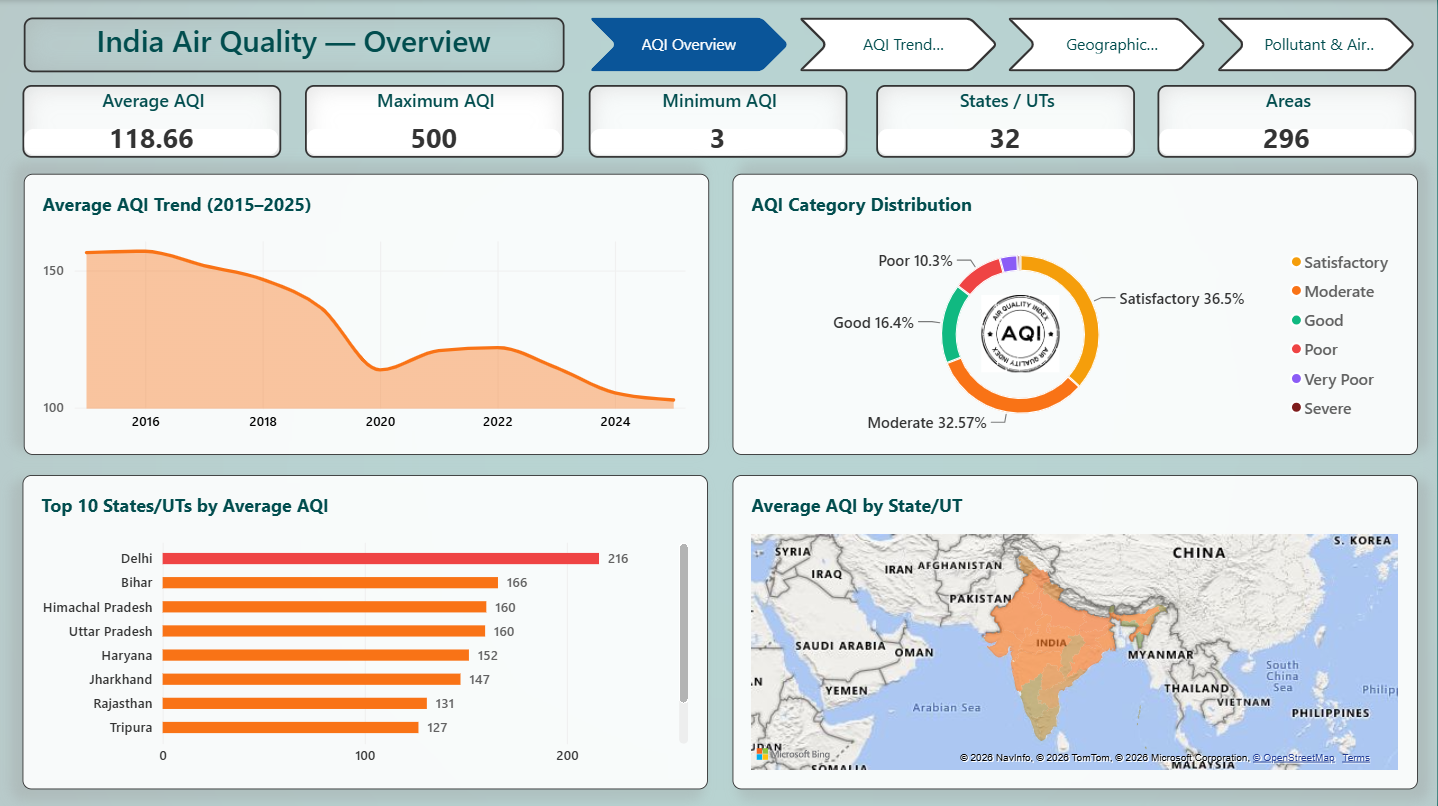

The page's visual inventory and layout, read from the dashboard file:
{"tool":"powerbi","page":{"name":"AQI Overview","canvas":[1280,720],"ordinal":0},"visuals":[{"type":"cardVisual","title":"Average AQI","fields":{"Data":["AQI_Data.Average AQI"]},"box":[20.6,75.5,230,65],"z":0},{"type":"cardVisual","title":"Maximum AQI","fields":{"Data":["AQI_Data.Maximum AQI"]},"box":[271.7,75.5,230,65],"z":1000},{"type":"cardVisual","title":"Minimum AQI","fields":{"Data":["AQI_Data.Minimum AQI"]},"box":[524.2,75.5,230,65],"z":2000},{"type":"cardVisual","title":"States / UTs","fields":{"Data":["Count(AQI_Data.state)"]},"box":[780.8,75.5,230,65],"z":3000},{"type":"cardVisual","title":"Areas","fields":{"Data":["Count(AQI_Data.area)"]},"box":[1030.5,75.5,230,65],"z":4000},{"type":"stackedAreaChart","title":"Average AQI Trend (2015–2025)","fields":{"Category":["AQI_Data.Year"],"Y":["AQI_Data.Average AQI"]},"box":[21.1,155.2,610,250],"z":5000},{"type":"clusteredBarChart","title":"Top 10 States/UTs by Average AQI","fields":{"Category":["AQI_Data.state"],"Y":["AQI_Data.Average AQI"]},"box":[20.6,422.6,610,280],"z":6000},{"type":"textbox","box":[20.9,15.1,481.4,48.8],"z":7000},{"type":"donutChart","title":"AQI Category Distribution","fields":{"Category":["AQI_Data.air_quality_status"],"Y":["CountNonNull(AQI_Data.aqi_value)"]},"box":[652.3,154.7,610,250],"z":8000},{"type":"pageNavigator","box":[524.4,15.1,737.2,48.8],"z":9000},{"type":"filledMap","title":"Average AQI by State/UT","fields":{"Category":["AQI_Data.state"]},"box":[651.8,422.6,610,280],"z":10000}]}

Visuals, with their boxes in screenshot pixels (x1, y1, x2, y2), scaled from the page's 1280x720 canvas onto the 1438x806 screenshot:
"Average AQI" cardVisual: select_region(23, 85, 282, 157)
"Maximum AQI" cardVisual: select_region(305, 85, 564, 157)
"Minimum AQI" cardVisual: select_region(589, 85, 847, 157)
"States / UTs" cardVisual: select_region(877, 85, 1136, 157)
"Areas" cardVisual: select_region(1158, 85, 1416, 157)
"Average AQI Trend (2015–2025)" stackedAreaChart: select_region(24, 174, 709, 454)
"Top 10 States/UTs by Average AQI" clusteredBarChart: select_region(23, 473, 708, 787)
textbox: select_region(23, 17, 564, 72)
"AQI Category Distribution" donutChart: select_region(733, 173, 1418, 453)
pageNavigator: select_region(589, 17, 1417, 72)
"Average AQI by State/UT" filledMap: select_region(732, 473, 1418, 787)
